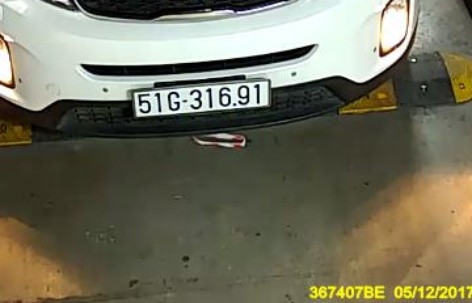plate: (128, 81, 272, 116)
